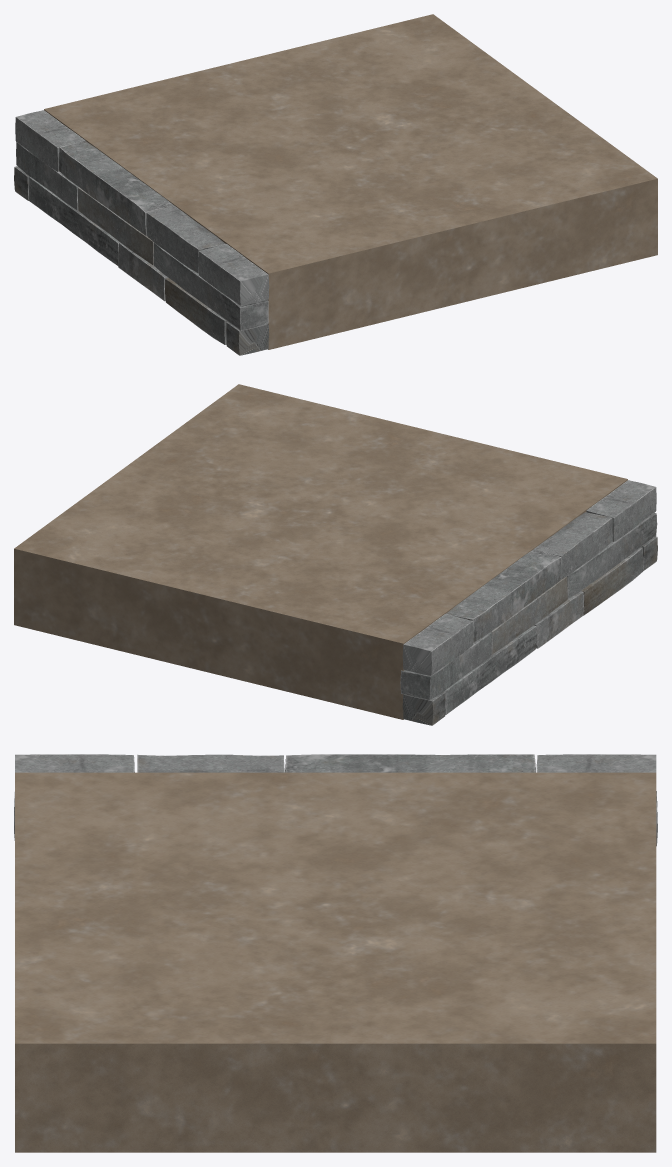
The model's file is SM_Gidan02c.fbx.
3 views of the same model, one above another, from view 1: azimuth 30°, elevation 25°; view 2: azimuth 150°, elevation 25°; view 3: azimuth 270°, elevation 25° (orthographic). The views are drawn at different scales.
Visible parts, largest first — view 1: SM_Gidan02c; view 2: SM_Gidan02c; view 3: SM_Gidan02c.
Boxes of the visible parts, left/top/right/bottom form: SM_Gidan02c: left=14, top=14, right=657, bottom=355; SM_Gidan02c: left=14, top=384, right=657, bottom=725; SM_Gidan02c: left=14, top=754, right=657, bottom=1152.
Bounding box in the file's own units: 324 × 301 × 56.31.
2 materials, 2 textured.
